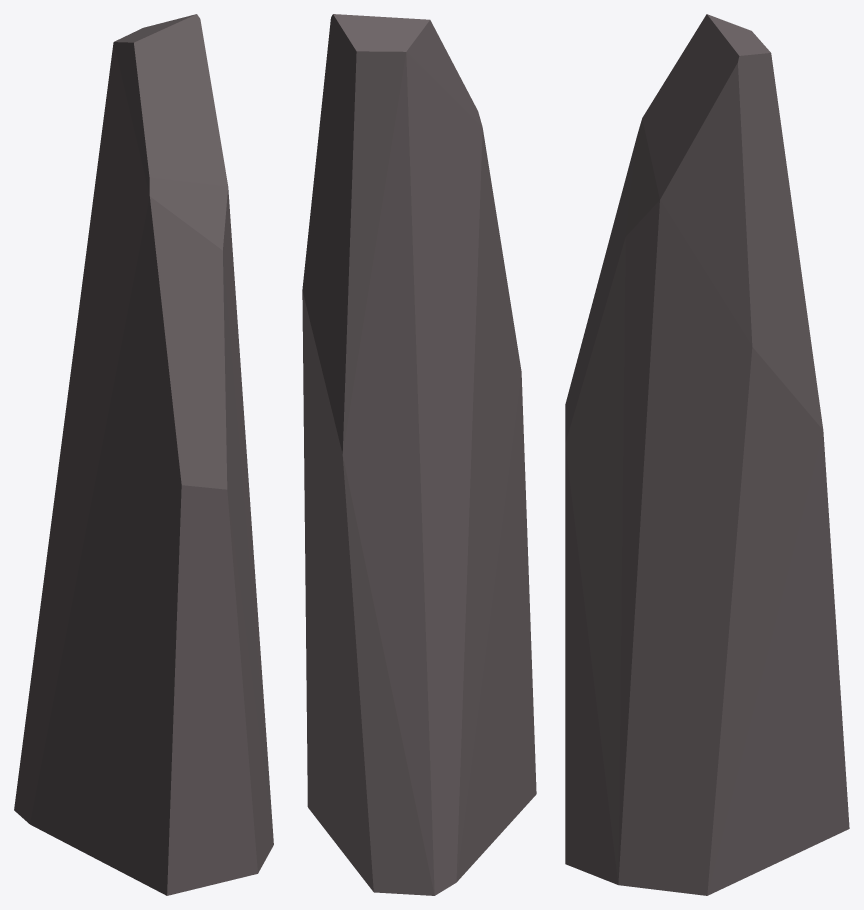
File: Rock_Sharp_m_04 5.fbx
3 views of the same model, side by side, from view 1: azimuth 30°, elevation 25°; view 2: azimuth 150°, elevation 25°; view 3: azimuth 270°, elevation 25° (orthographic). The views are drawn at different scales.
Visible parts, largest first — view 1: Rock_Sharp_m_04; view 2: Rock_Sharp_m_04; view 3: Rock_Sharp_m_04.
Part boxes in pixels (x1,y1,x2,y2): Rock_Sharp_m_04: (14, 14, 273, 895); Rock_Sharp_m_04: (302, 14, 536, 895); Rock_Sharp_m_04: (565, 14, 849, 895).
Size of the model in its own units: 48.14 by 199 by 62.42.
